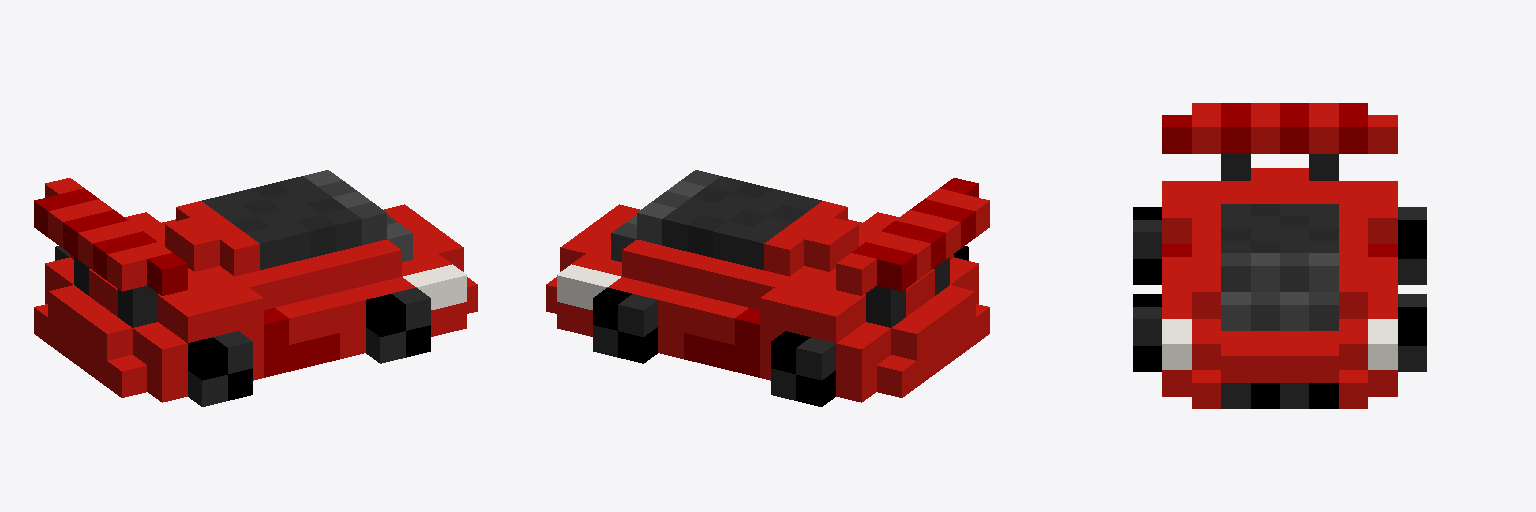
3 renders of one model, left to right at view 1: azimuth 30°, elevation 25°; view 2: azimuth 150°, elevation 25°; view 3: azimuth 270°, elevation 25°, orthographic.
Parts seen in each view (by area): view 1: object 1; view 2: object 1; view 3: object 1.
Boxes of the visible parts, x1,y1,x2,y2 form: object 1: [34, 170, 477, 406]; object 1: [546, 170, 989, 406]; object 1: [1133, 103, 1426, 408].
Size of the model in its own units: 1.4 by 0.5 by 1.
Materials: 1 (1 with a texture image).